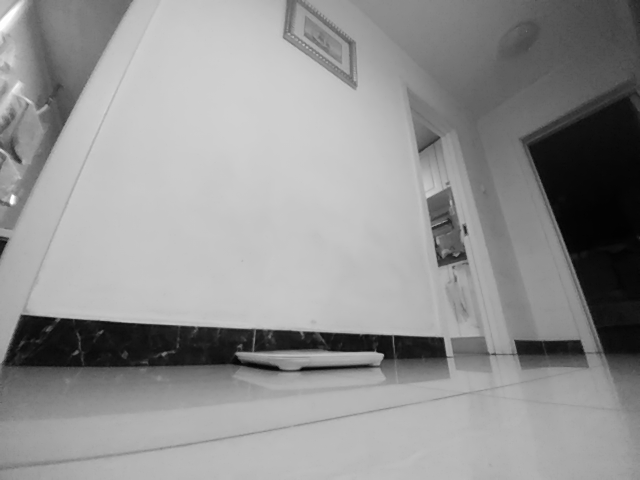scale: (234, 349, 385, 373)
